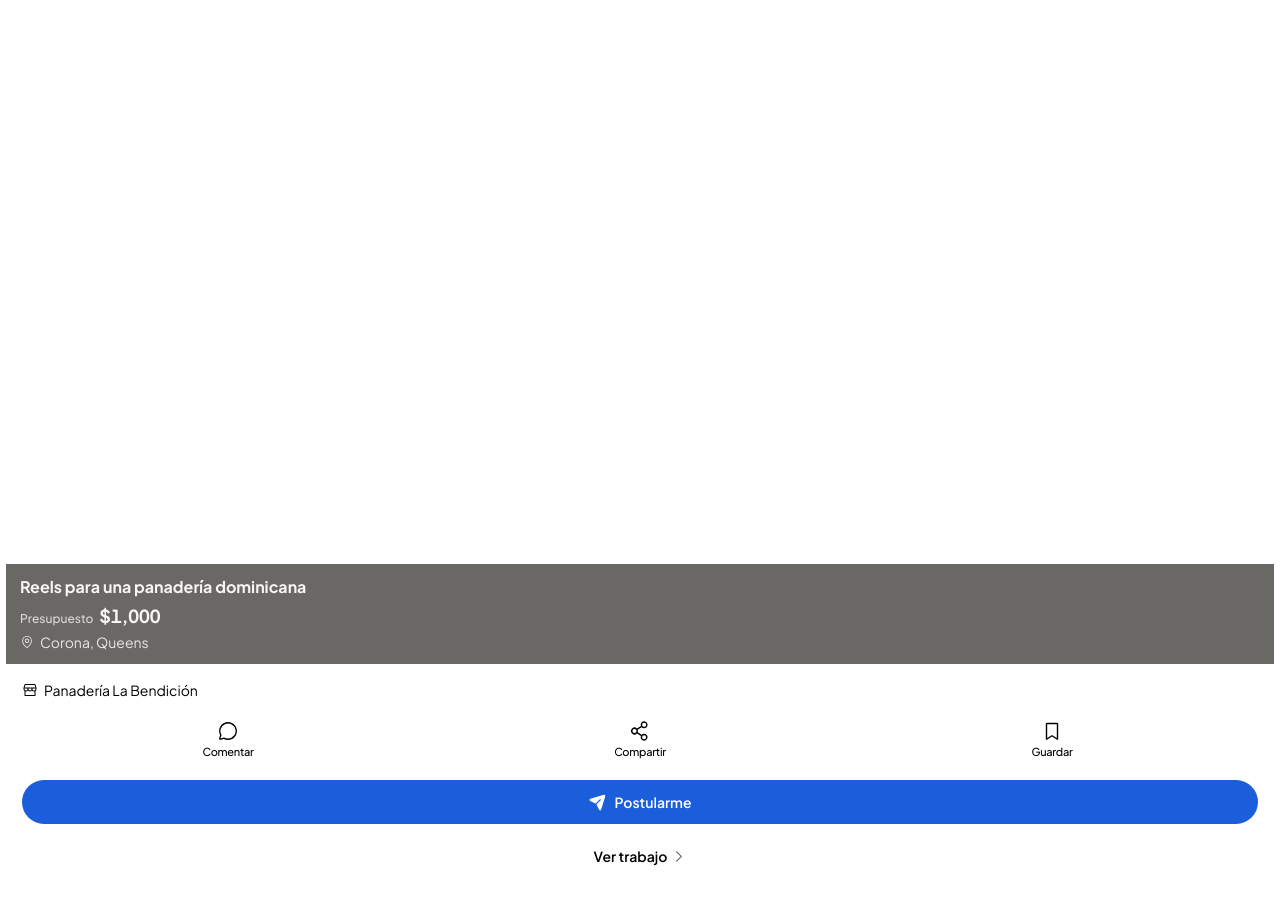
GigCard: postularse se resuelve en la lista › abre la hoja SOBRE el listado: aparece el diálogo con la propuesta y nadie navega
(page scrolled)
Click the button with aria-label "postularme a " at x=640, y=802, box [22,780,1258,824]
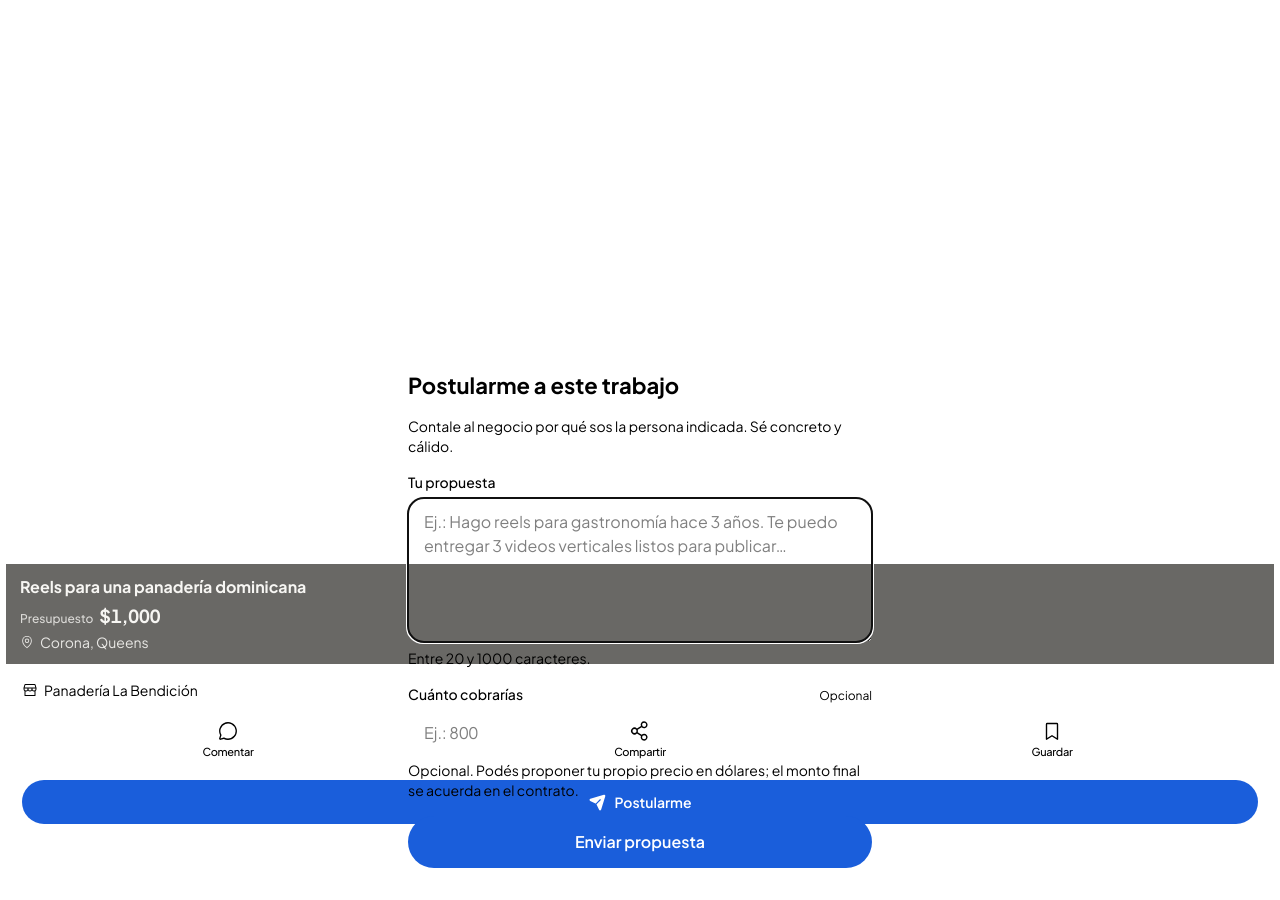
Expected: the dialog is shown, [384,336,896,899]
Expected: the text "Contale al negocio por qué sos la persona indicada. Sé concreto y cálido." is shown, [408,416,872,456]
